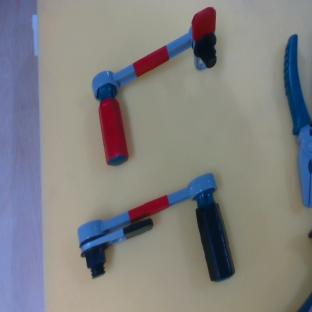non_pass: (70, 173, 236, 307)
